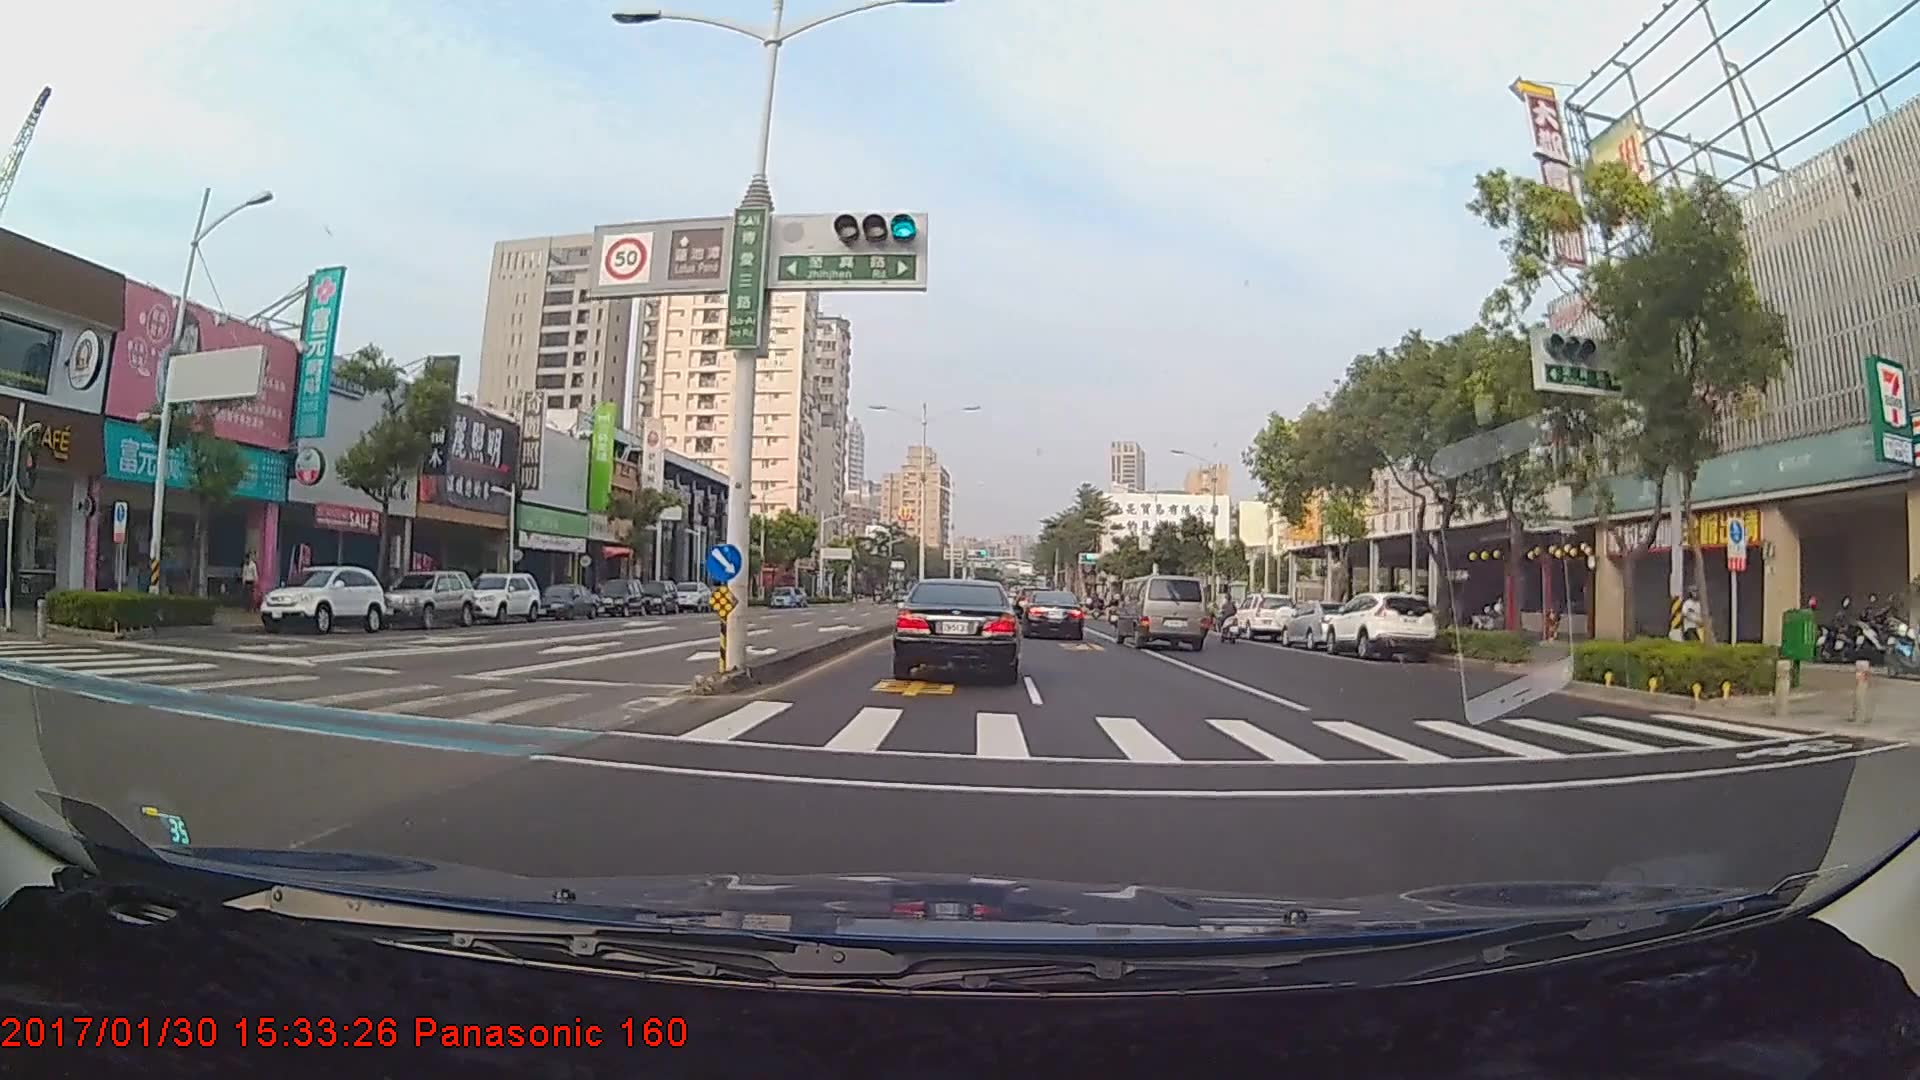pedestrian: (238, 555, 262, 616)
rider: (1211, 593, 1248, 643)
vehicle: (893, 577, 1020, 679), (254, 563, 384, 632), (1320, 587, 1440, 658), (1118, 574, 1207, 651), (369, 567, 472, 628), (460, 570, 544, 626), (1280, 598, 1361, 647), (1016, 590, 1085, 642), (1233, 593, 1293, 642), (527, 579, 598, 621), (593, 577, 645, 617), (634, 580, 677, 615), (675, 580, 715, 613)
